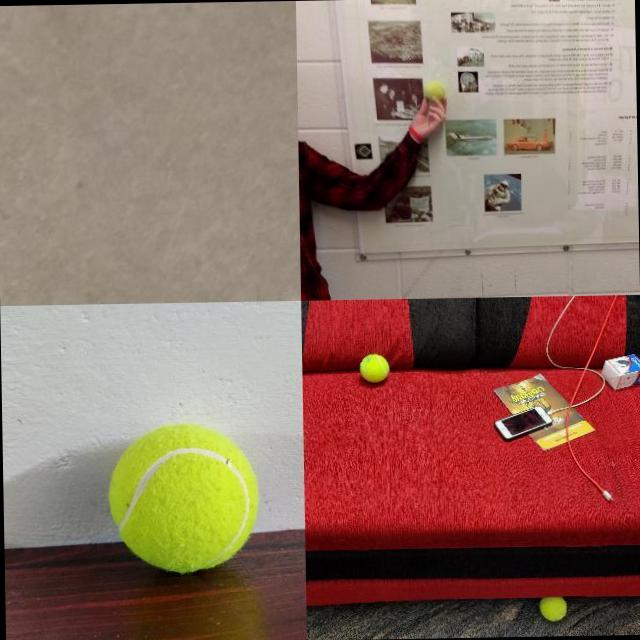Tennis Ball: (107, 421, 260, 574), (360, 352, 389, 382), (539, 598, 567, 621), (424, 80, 446, 103)
